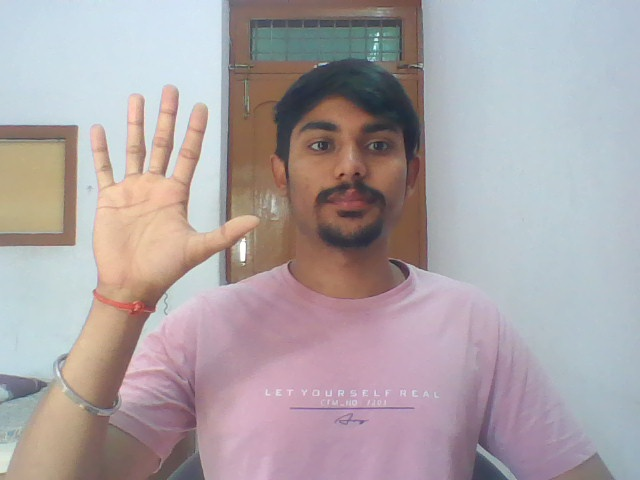Hello: (76, 80, 261, 299)
